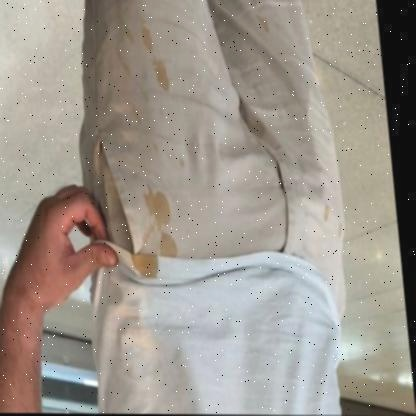coffee: (131, 254, 158, 279), (148, 193, 168, 222), (159, 233, 175, 258), (155, 62, 169, 87), (144, 29, 151, 48)
